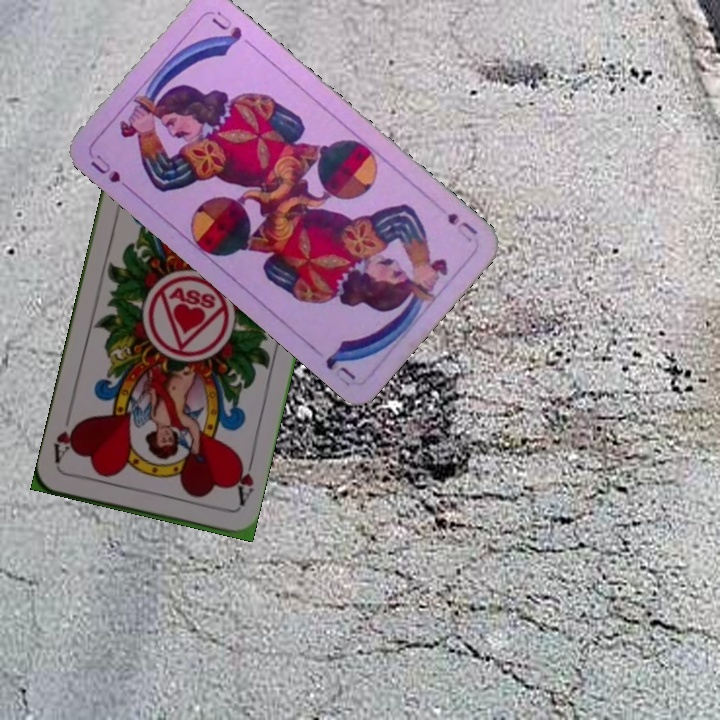HA: (229, 453, 257, 512)
SU: (86, 150, 135, 195), (443, 209, 481, 245)
